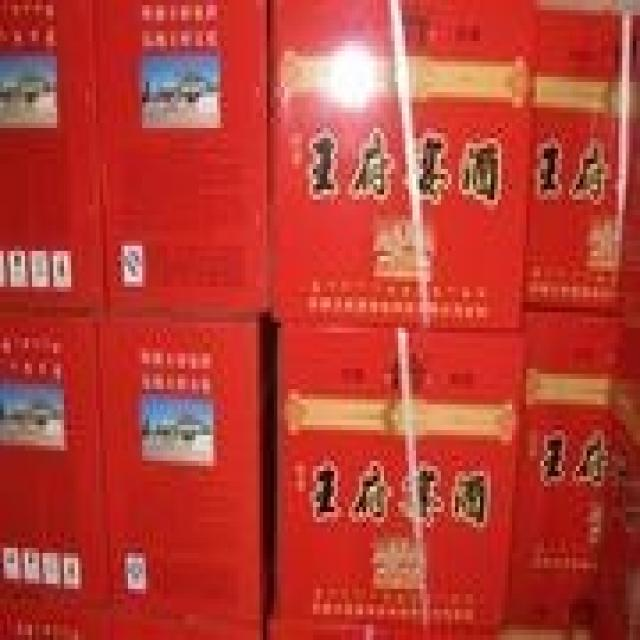box: (270, 0, 537, 323), (267, 317, 526, 640), (92, 0, 270, 312), (103, 312, 270, 640), (505, 312, 636, 640), (519, 0, 640, 323), (0, 312, 110, 640)
